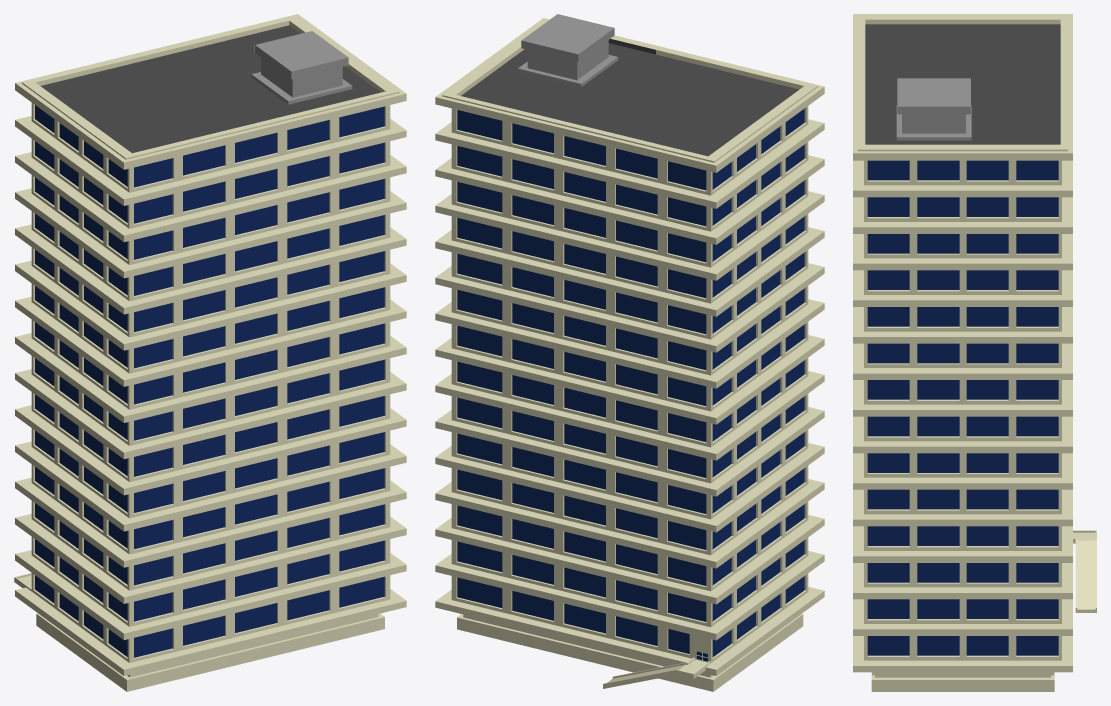
Rendered from FlatBlock1Real.fbx.
The picture shows the model from 3 angles, left to right: view 1: azimuth 30°, elevation 25°; view 2: azimuth 150°, elevation 25°; view 3: azimuth 270°, elevation 25°; orthographic projection.
Visible parts, largest first — view 1: Plane; view 2: Plane; view 3: Plane.
Boxes of the visible parts, x1,y1,x2,y2 form: Plane: [14, 14, 406, 691]; Plane: [435, 14, 824, 691]; Plane: [853, 14, 1096, 691].
Size of the model in its own units: 3240 by 6256 by 2395.
